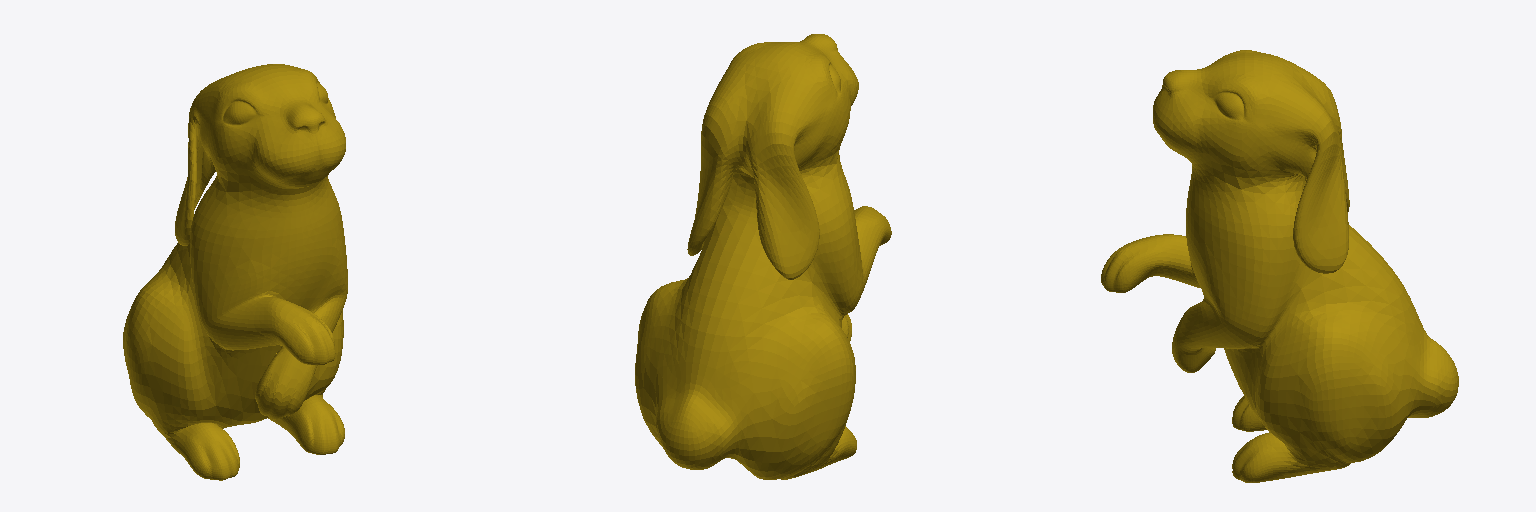
The picture shows the model from 3 angles: view 1: azimuth 30°, elevation 25°; view 2: azimuth 150°, elevation 25°; view 3: azimuth 270°, elevation 25°; orthographic projection.
Parts seen in each view (by area): view 1: Arch34_031_obj_00; view 2: Arch34_031_obj_00; view 3: Arch34_031_obj_00.
Part boxes in pixels (x1,y1,x2,y2): Arch34_031_obj_00: (123, 64, 347, 480); Arch34_031_obj_00: (635, 34, 891, 479); Arch34_031_obj_00: (1101, 50, 1458, 482).
Bounding box in the file's own units: 223 × 405 × 336.